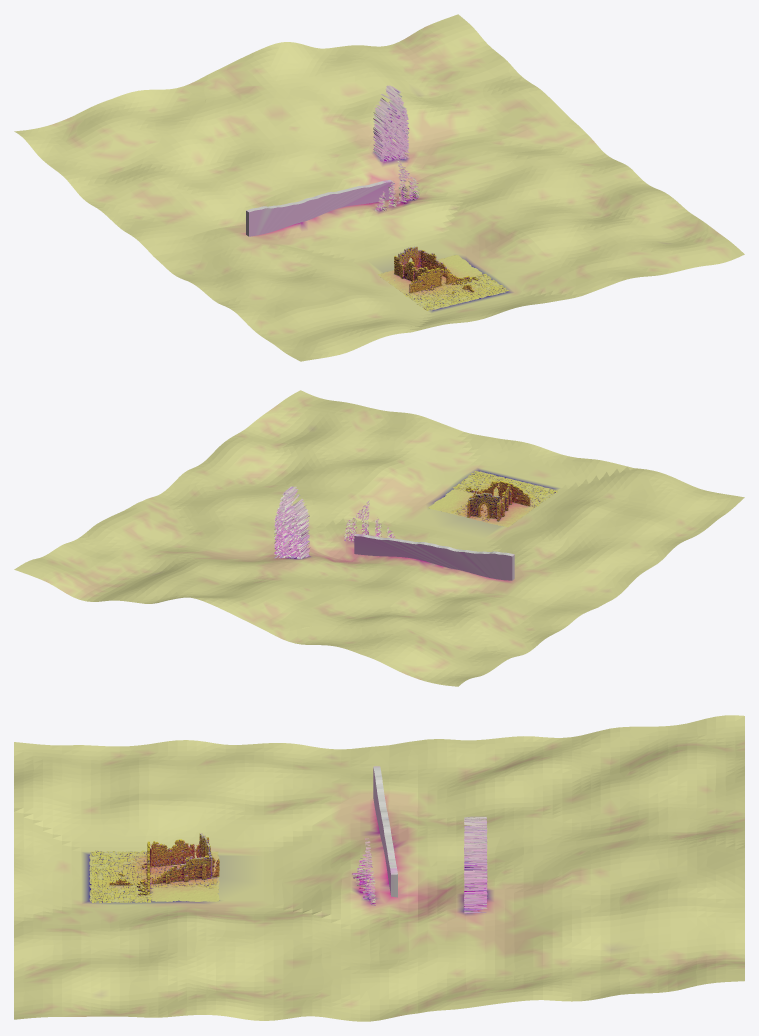
File: gate.glb
3 views of the same model, one above another, from view 1: azimuth 30°, elevation 25°; view 2: azimuth 150°, elevation 25°; view 3: azimuth 270°, elevation 25° (orthographic). The views are drawn at different scales.
Bounding box in the file's own units: 170 × 34.46 × 190.
